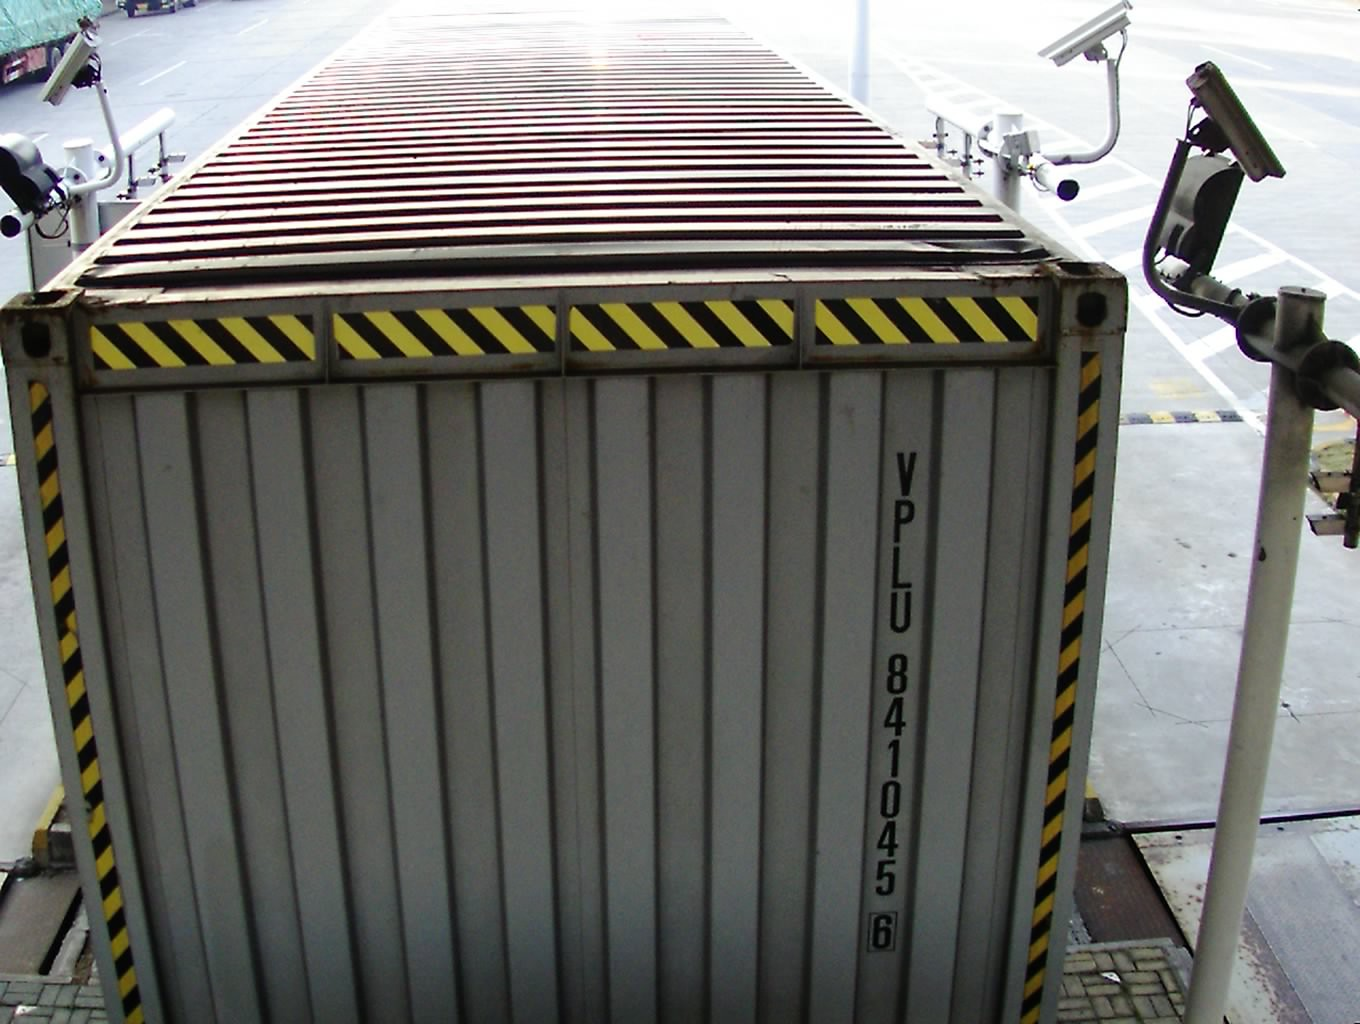words: (871, 440, 922, 954)
